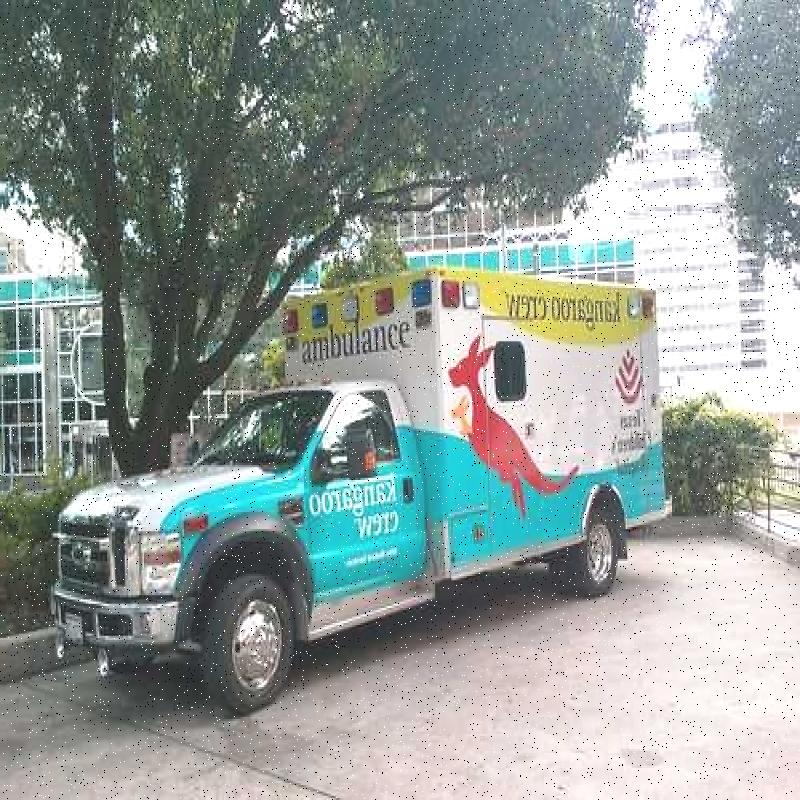AmbulanceSiren: (273, 260, 445, 362)
